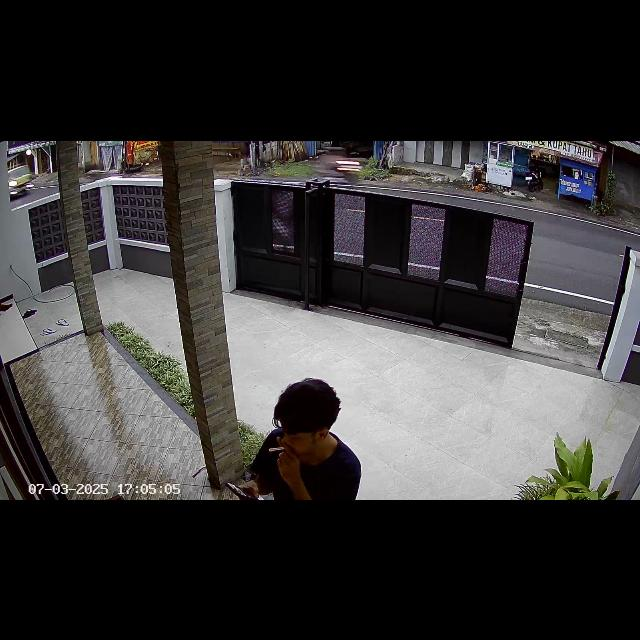rokok: (265, 444, 285, 452)
